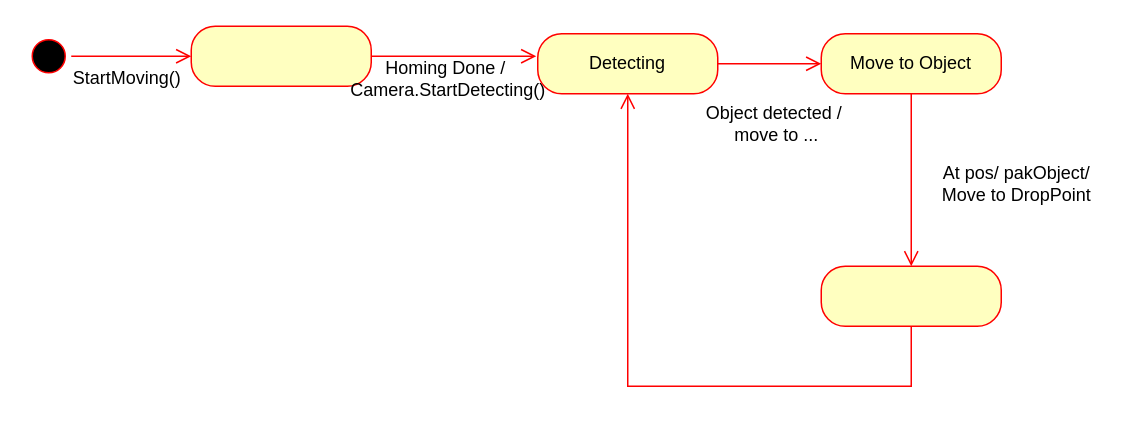
Some shapes in this 1133 by 428 pixel diagram are drawn without their labels. Here are the shapes that lost their labels. From the top down, the box of each, then its label:
(190, 25, 371, 86): Homing
(820, 265, 1001, 326): Moving to drop
